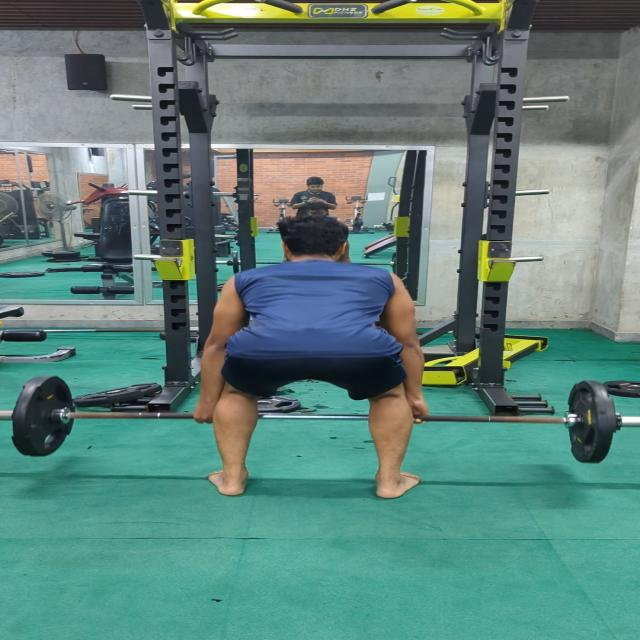Normal_Deadlifts: (185, 213, 434, 500)
